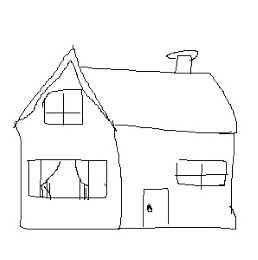chimney: (164, 42, 202, 85)
closed_window: (40, 86, 90, 131), (172, 153, 231, 189)
door: (138, 179, 172, 233)
open_window: (37, 156, 93, 201)
roof: (6, 49, 237, 134)
wall: (111, 120, 239, 232)
